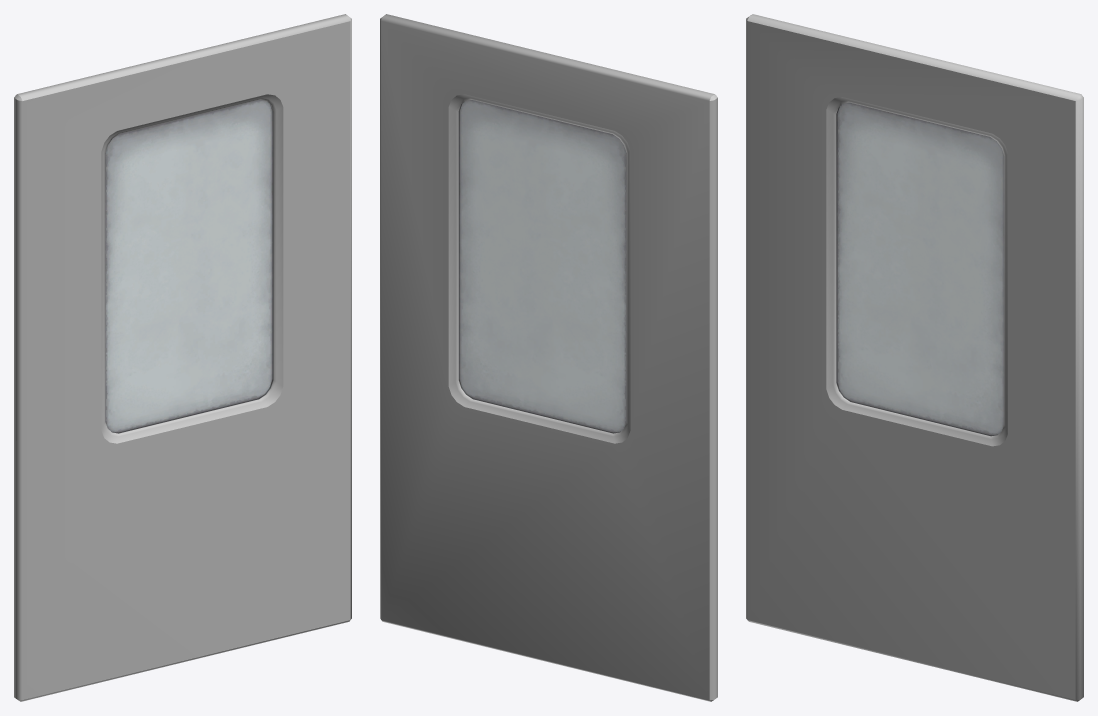
The model's file is slidedoor_subway_connect.dae.
3 renders of one model, left to right at view 1: azimuth 30°, elevation 25°; view 2: azimuth 150°, elevation 25°; view 3: azimuth 330°, elevation 25°, orthographic.
Visible parts, largest first — view 1: door, door_window; view 2: door, door_window; view 3: door, door_window.
Part boxes in pixels (bbox=[...]): door: bbox=[14, 14, 351, 701]; door_window: bbox=[105, 100, 273, 433]; door: bbox=[380, 14, 717, 701]; door_window: bbox=[458, 100, 626, 433]; door: bbox=[746, 14, 1083, 701]; door_window: bbox=[836, 102, 1004, 436].
Bounding box in the file's own units: 1.54 × 2.66 × 0.057.
